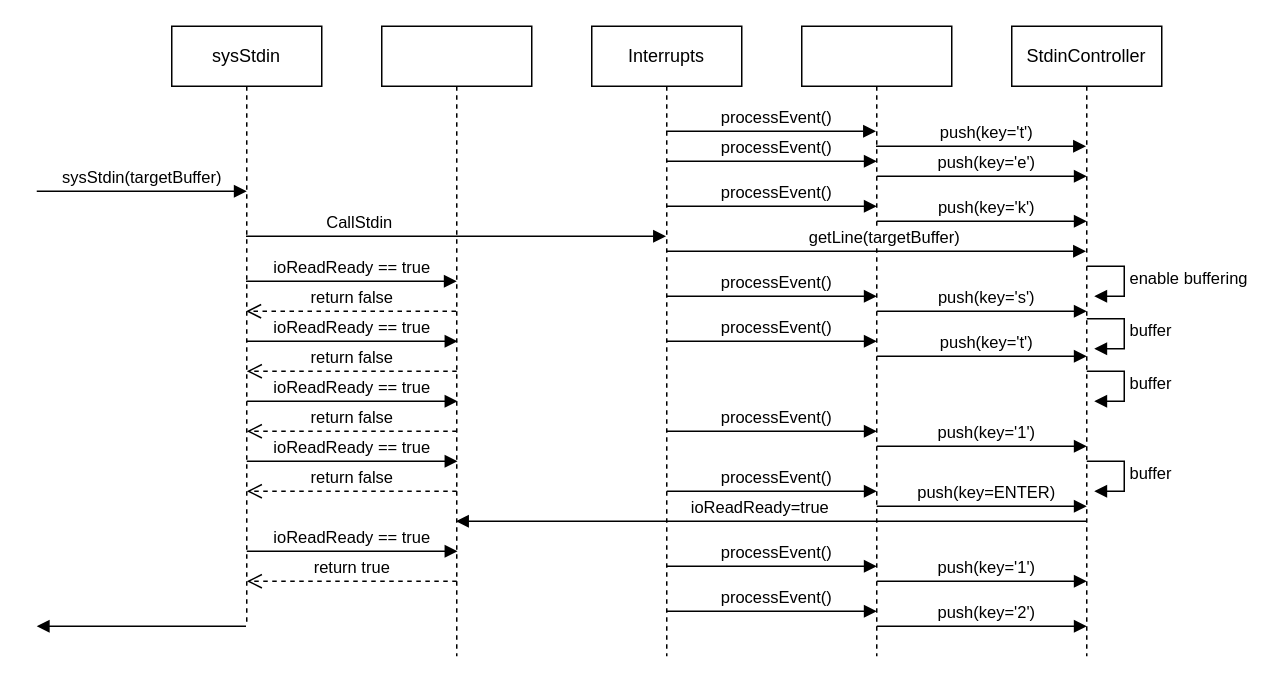
Image size: 1275x683. Some labels were removed from this diagram. Each missing label, with the centre of its shape:
"Ps2Keyboard" goes at point 876,340.
"SubprocessSig" goes at point 456,340.
